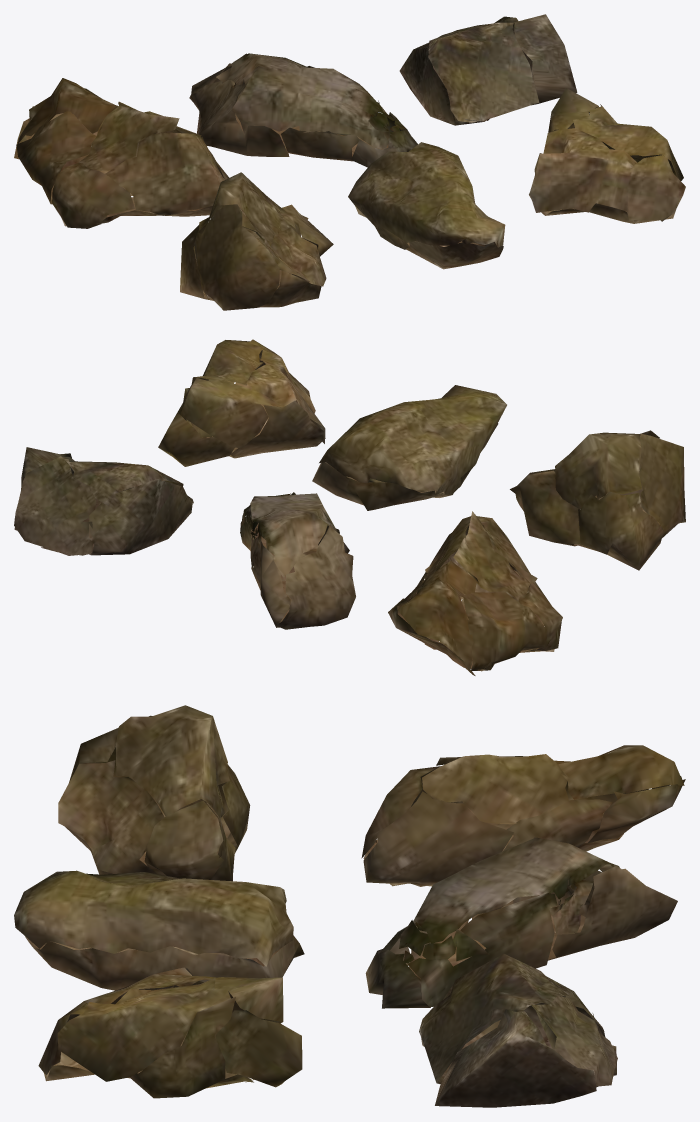
File: pedras_musgo_01-lod.glb
The picture shows the model from 3 angles, top to bottom: view 1: azimuth 30°, elevation 25°; view 2: azimuth 150°, elevation 25°; view 3: azimuth 270°, elevation 25°; orthographic projection. The views are drawn at different scales.
Visible parts, largest first — view 1: rock_moss_set_01_rock01; view 2: rock_moss_set_01_rock01; view 3: rock_moss_set_01_rock01.
Boxes of the visible parts, <box> form: rock_moss_set_01_rock01: <box>14,14,685,310</box>; rock_moss_set_01_rock01: <box>14,339,685,675</box>; rock_moss_set_01_rock01: <box>14,705,685,1107</box>.
Bounding box in the file's own units: 7.95 × 1.73 × 6.98.
1 material, 1 textured.
